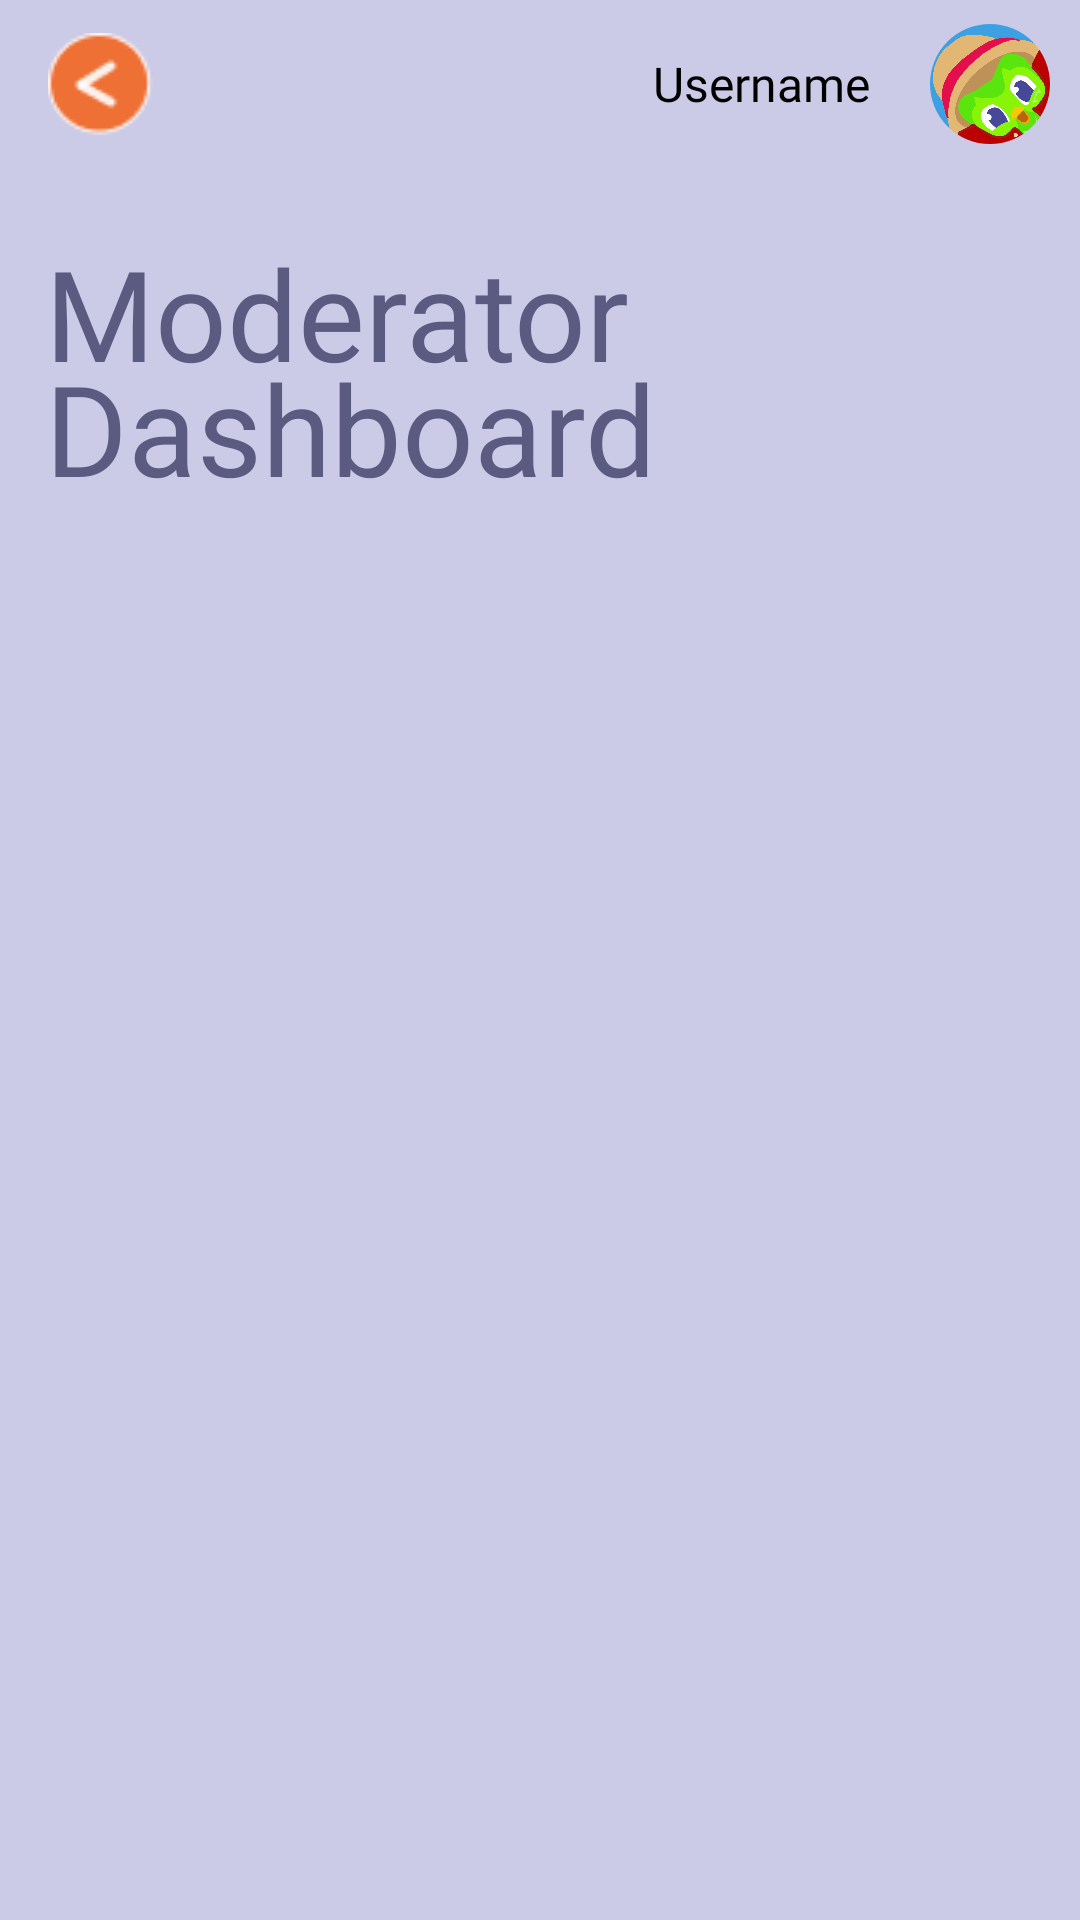

Named icons in this screenshot (1080*1920) and their bounding boxes, (x1, y1, x2, y2):
back: (48, 33, 150, 133)
